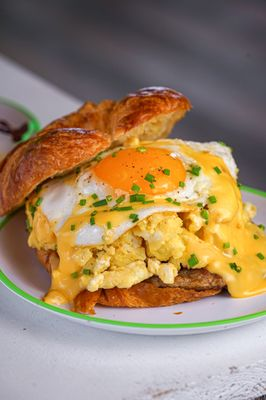soup: (0, 86, 260, 313)
sushi: (0, 85, 263, 336)
